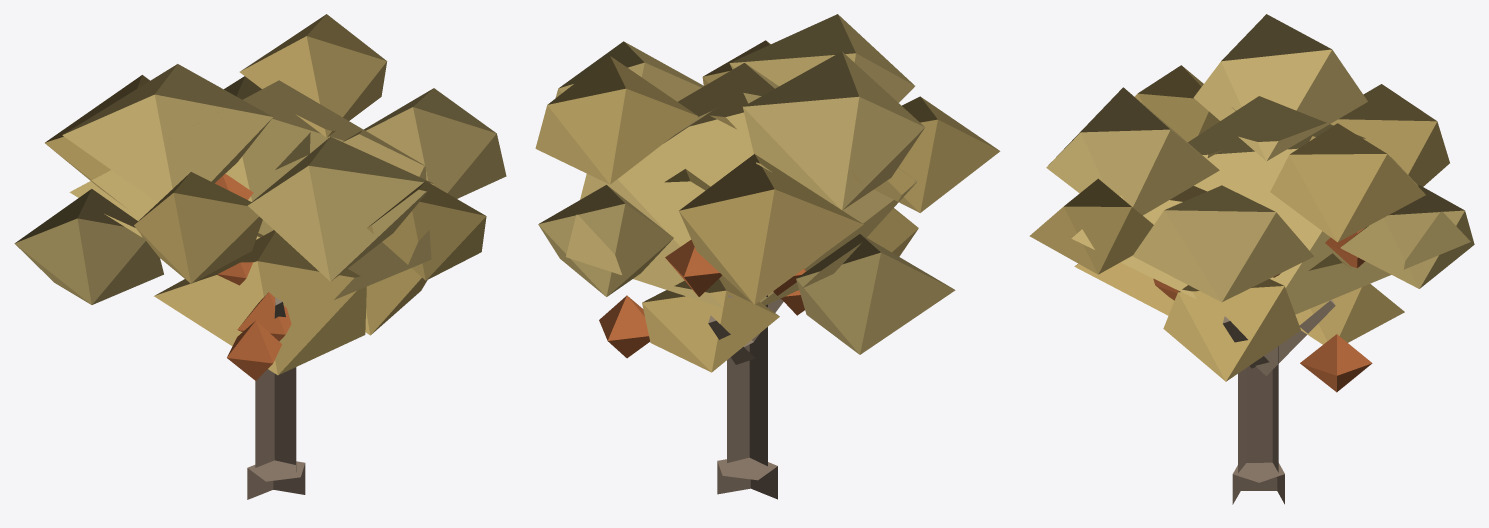
File: tree.trop.mango__autumn.glb
3 views of the same model, side by side, from view 1: azimuth 30°, elevation 25°; view 2: azimuth 150°, elevation 25°; view 3: azimuth 270°, elevation 25° (orthographic). The views are drawn at different scales.
Parts seen in each view (by area): view 1: tree.trop.mango__autumn; view 2: tree.trop.mango__autumn; view 3: tree.trop.mango__autumn.
Part boxes in pixels (x1,y1,x2,y2): tree.trop.mango__autumn: (14, 14, 506, 499); tree.trop.mango__autumn: (535, 14, 1000, 499); tree.trop.mango__autumn: (1029, 14, 1474, 504).
Size of the model in its own units: 11.11 by 11.81 by 10.79.
